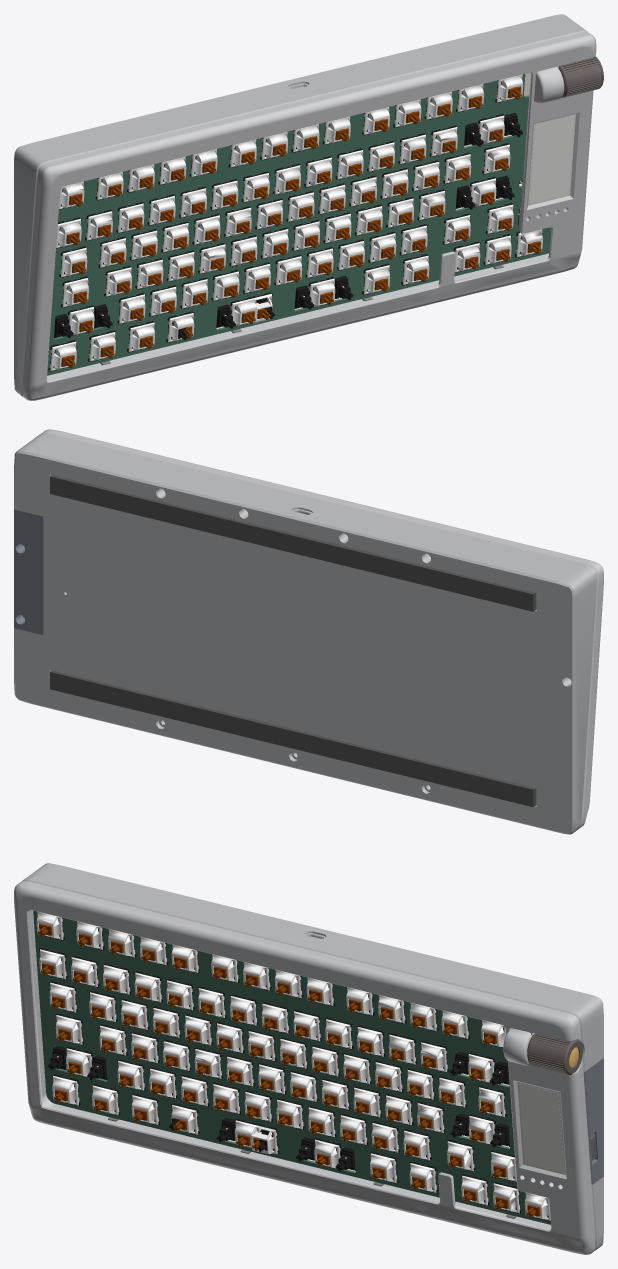
Rendered from Dachshund60F-Draco.glb.
The picture shows the model from 3 angles, top to bottom: view 1: azimuth 30°, elevation 25°; view 2: azimuth 150°, elevation 25°; view 3: azimuth 330°, elevation 25°; orthographic projection.
Visible parts, largest first — view 1: =>0:1:1:4; view 2: =>0:1:1:4; view 3: =>0:1:1:4.
Part boxes in pixels (box(x1,y1,x2,y2)): =>0:1:1:4: box(14, 14, 603, 400); =>0:1:1:4: box(14, 429, 603, 834); =>0:1:1:4: box(14, 863, 603, 1254).
Bounding box in the file's own units: 0.3365 × 0.144 × 0.043.
1 material, 1 textured.
